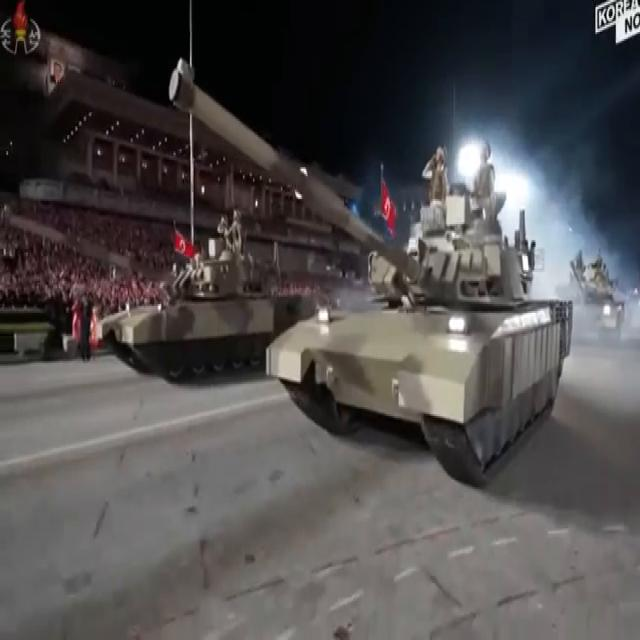north tank: (172, 54, 580, 498), (32, 178, 299, 391)
